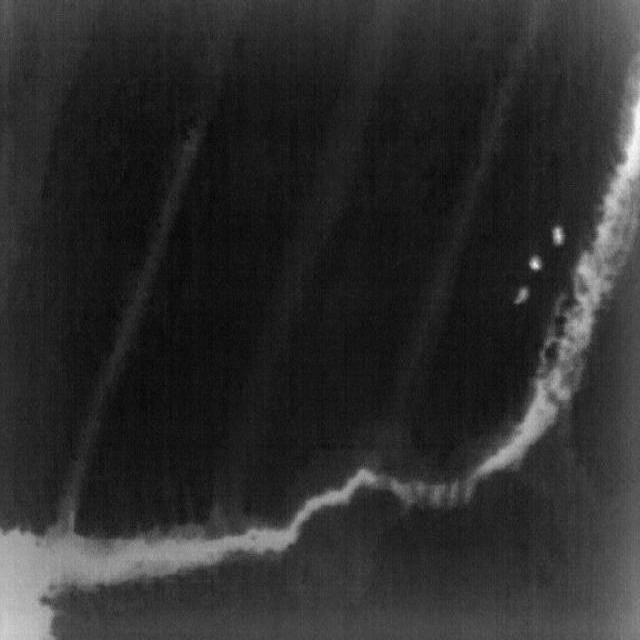deer: (551, 225, 568, 247), (513, 286, 531, 304), (528, 254, 544, 271)
